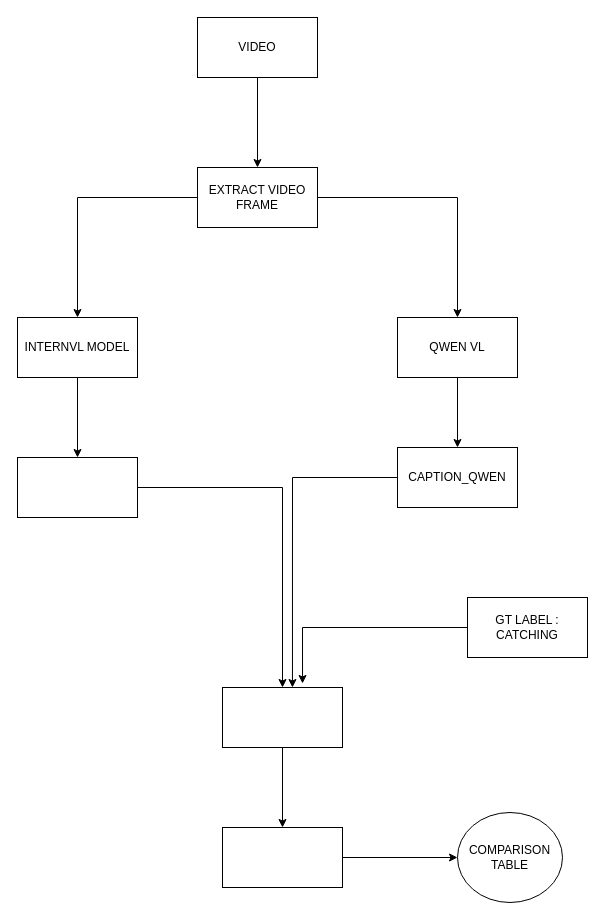
Some shapes in this 605 by 920 pixel diagram are drawn without their labels. The shapes that lost their labels are listed below. From the top down, each one's centre as x and y in pixels, then its label:
the point at 77,487: CAPTION_INTERNVL
the point at 282,717: LLAMA
the point at 282,857: SIMILARITY SCORE AND COMPARISON
